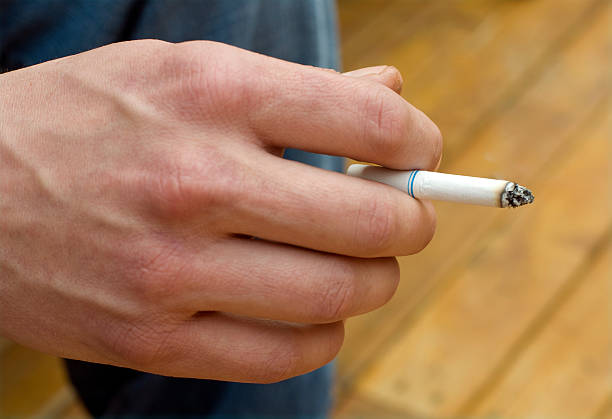cigarette: (346, 161, 535, 212)
